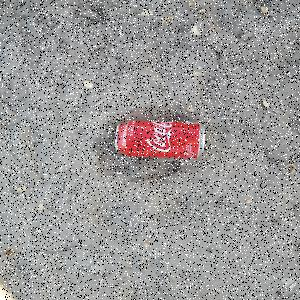Can: (114, 121, 208, 161)
